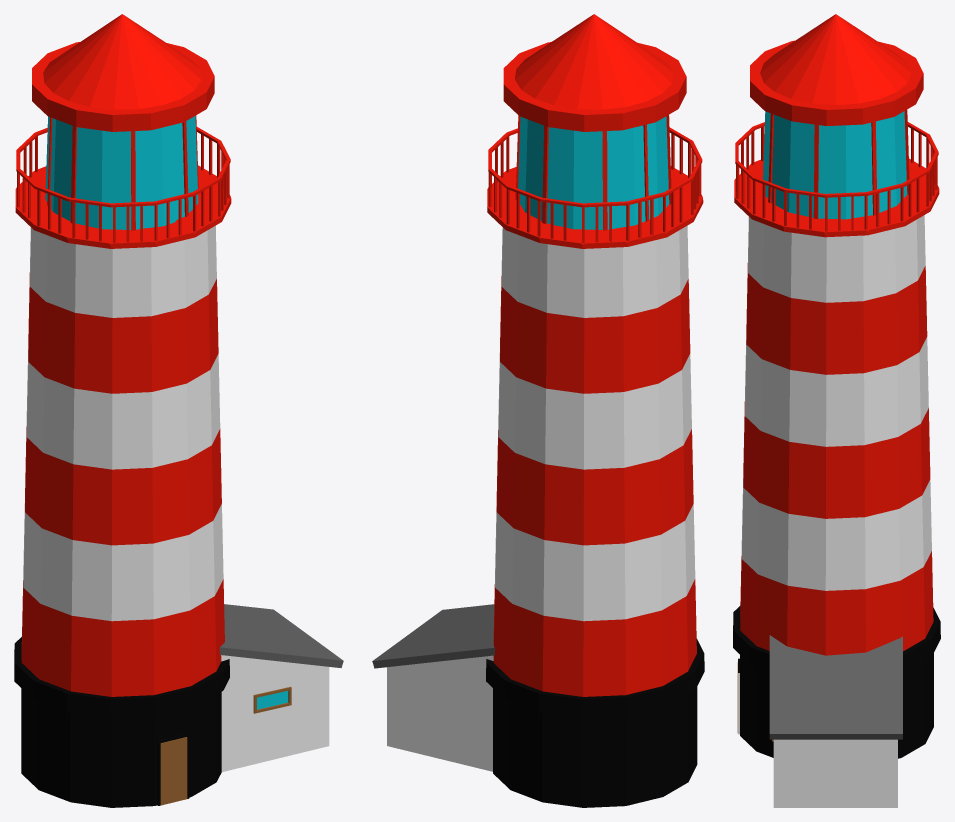
File: Lighthouse.fbx
3 views of the same model, side by side, from view 1: azimuth 30°, elevation 25°; view 2: azimuth 150°, elevation 25°; view 3: azimuth 270°, elevation 25° (orthographic). The views are drawn at different scales.
Parts seen in each view (by area): view 1: Cylinder.003; view 2: Cylinder.003; view 3: Cylinder.003.
Part boxes in pixels (x1,y1,x2,y2): Cylinder.003: [14, 14, 343, 807]; Cylinder.003: [372, 14, 704, 807]; Cylinder.003: [733, 14, 940, 807].
Bounding box in the file's own units: 1576 × 4012 × 1059.
